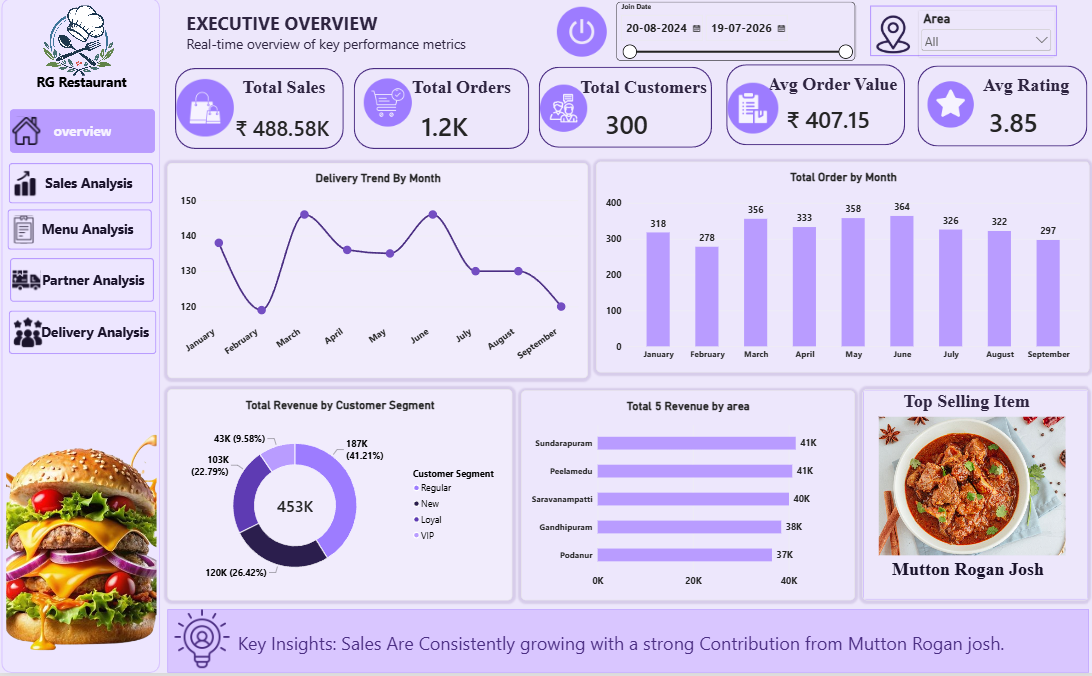

This screenshot's page, from the dashboard's own definition file:
{"tool":"powerbi","page":{"name":"Executive overview","canvas":[1951,1200],"ordinal":1},"visuals":[{"type":"shape","box":[2.5,0,282.5,1200],"z":0},{"type":"shape","box":[310,124,300,144],"z":1000},{"type":"textbox","box":[401.9,140.3,205.5,40],"z":2000},{"type":"image","box":[312.5,142.5,102.5,105],"z":3000},{"type":"cardVisual","fields":{"Data":["Sum(cleaned_orders.total_amount_inr)"]},"box":[402.5,197.5,215,65],"z":4000},{"type":"lineChart","title":"Delivery Trend By Month","fields":{"Y":["formulas.total orders"],"Category":["cleaned_orders.order_date.Variation.Date Hierarchy.Month"]},"box":[297.5,292.5,747.5,382.5],"z":5000},{"type":"clusteredColumnChart","title":"Total Order by Month","fields":{"Y":["Sum(cleaned_orders.quantity)"],"Category":["cleaned_orders.order_date.Variation.Date Hierarchy.Month"]},"box":[1060,292,878,374],"z":6000},{"type":"donutChart","title":"Total Revenue by Customer Segment","fields":{"Y":["formulas.Total revenue"],"Category":["cleaned_customers.customer_segment"]},"box":[297.5,695,612.5,375],"z":7000},{"type":"textbox","box":[331,21.8,651,125.5],"z":8000},{"type":"shape","box":[22.5,85,245,130],"z":9000},{"type":"image","box":[40,12.5,200,125],"z":10000},{"type":"barChart","title":"Total 5 Revenue by area","fields":{"Category":["cleaned_customers.area"],"Y":["formulas.Total revenue"]},"box":[927.5,697.5,592.5,372.5],"z":11000},{"type":"shape","box":[628.8,124,312,144],"z":12000},{"type":"textbox","box":[718,140.6,205.5,40],"z":13000},{"type":"image","box":[646.1,142.2,85.4,87.5],"z":14000},{"type":"cardVisual","fields":{"Data":["formulas.total orders"]},"box":[732.5,192.5,195,65],"z":15000},{"type":"shape","box":[958,122,308,144],"z":16000},{"type":"textbox","box":[1021.2,139.6,243.8,39.6],"z":17000},{"type":"image","box":[960,136,84,120],"z":18000},{"type":"cardVisual","fields":{"Data":["Count(cleaned_customers.customer_name)"]},"box":[1060,190,194.6,65.5],"z":19000},{"type":"shape","box":[1292,118,318,144],"z":20000},{"type":"textbox","box":[1352,134,258.3,41.7],"z":21000},{"type":"image","box":[1294,138,90,116],"z":22000},{"type":"cardVisual","fields":{"Data":["Avg(cleaned_orders.total_amount_inr)"]},"box":[1382.5,182.5,194.6,65.5],"z":23000},{"type":"shape","box":[1630,120,302,144],"z":24000},{"type":"textbox","box":[1712,136,226,38],"z":25000},{"type":"image","box":[1649.5,139.1,82.3,98.8],"z":26000},{"type":"cardVisual","fields":{"Data":["Avg(item_performance.avg_rating)"]},"box":[1742.5,187.5,194.6,65.5],"z":27000},{"type":"actionButton","title":"overview on","box":[17.5,197.5,257.5,77.5],"z":28000},{"type":"actionButton","title":"sales off","box":[14.8,292.6,256.6,72.1],"z":31000},{"type":"actionButton","title":"menu off","box":[14.4,376.6,256.6,72.1],"z":33000},{"type":"actionButton","title":"partner off","box":[18,462,256,78],"z":35000},{"type":"actionButton","title":"delivery Analysis off","box":[15,555,262.5,77.5],"z":37000},{"type":"shape","box":[1532.5,695,402.5,375],"z":38000},{"type":"image","box":[1562,744,332,246],"z":39000},{"type":"textbox","box":[1570,996,300,48],"z":40000},{"type":"textbox","box":[1594,698,250,40],"z":41000},{"type":"shape","box":[297.5,1087.5,1640,112.5],"z":42000},{"type":"textbox","box":[337.5,1125,1532.5,75],"z":43000},{"type":"image","box":[305,1087.5,110,105],"z":44000},{"type":"image","box":[10,737.5,267.5,462.5],"z":45000},{"type":"shape","box":[1547.5,12.5,332.5,90],"z":46000},{"type":"slicer","fields":{"Values":["cleaned_customers.area"]},"box":[1632.5,22.5,240,82.5],"z":47000},{"type":"image","box":[1547.5,30,82.5,67.5],"z":48000},{"type":"slicer","title":"Join Date","fields":{"Values":["cleaned_customers.join_date"]},"box":[1095,7.5,425,105],"z":49000},{"type":"image","box":[975.6,15.6,117.8,88.9],"z":50000}]}

Visuals, with their boxes in screenshot pixels (x1, y1, x2, y2), scaled from the page's 1951x1200 canvas onto the 1092x676 screenshot:
shape: x1=1, y1=0, x2=160, y2=675
shape: x1=174, y1=70, x2=341, y2=151
textbox: x1=225, y1=79, x2=340, y2=102
image: x1=175, y1=80, x2=232, y2=139
cardVisual - Sum(cleaned_orders.total_amount_inr): x1=225, y1=111, x2=346, y2=148
"Delivery Trend By Month" lineChart: x1=167, y1=165, x2=585, y2=380
"Total Order by Month" clusteredColumnChart: x1=593, y1=164, x2=1085, y2=375
"Total Revenue by Customer Segment" donutChart: x1=167, y1=392, x2=509, y2=603
textbox: x1=185, y1=12, x2=550, y2=83
shape: x1=13, y1=48, x2=150, y2=121
image: x1=22, y1=7, x2=134, y2=77
"Total 5 Revenue by area" barChart: x1=519, y1=393, x2=851, y2=603
shape: x1=352, y1=70, x2=527, y2=151
textbox: x1=402, y1=79, x2=517, y2=102
image: x1=362, y1=80, x2=409, y2=129
cardVisual - formulas.total orders: x1=410, y1=108, x2=519, y2=145
shape: x1=536, y1=69, x2=709, y2=150
textbox: x1=572, y1=79, x2=708, y2=101
image: x1=537, y1=77, x2=584, y2=144
cardVisual - Count(cleaned_customers.customer_name): x1=593, y1=107, x2=702, y2=144
shape: x1=723, y1=66, x2=901, y2=148
textbox: x1=757, y1=75, x2=901, y2=99
image: x1=724, y1=78, x2=775, y2=143
cardVisual - Avg(cleaned_orders.total_amount_inr): x1=774, y1=103, x2=883, y2=140
shape: x1=912, y1=68, x2=1081, y2=149
textbox: x1=958, y1=77, x2=1085, y2=98
image: x1=923, y1=78, x2=969, y2=134
cardVisual - Avg(item_performance.avg_rating): x1=975, y1=106, x2=1084, y2=143
"overview on" actionButton: x1=10, y1=111, x2=154, y2=155
"sales off" actionButton: x1=8, y1=165, x2=152, y2=205
"menu off" actionButton: x1=8, y1=212, x2=152, y2=253
"partner off" actionButton: x1=10, y1=260, x2=153, y2=304
"delivery Analysis off" actionButton: x1=8, y1=313, x2=155, y2=356
shape: x1=858, y1=392, x2=1083, y2=603
image: x1=874, y1=419, x2=1060, y2=558
textbox: x1=879, y1=561, x2=1047, y2=588
textbox: x1=892, y1=393, x2=1032, y2=416
shape: x1=167, y1=613, x2=1084, y2=675
textbox: x1=189, y1=634, x2=1047, y2=675
image: x1=171, y1=613, x2=232, y2=672
image: x1=6, y1=415, x2=155, y2=675
shape: x1=866, y1=7, x2=1052, y2=58
slicer - cleaned_customers.area: x1=914, y1=13, x2=1048, y2=59
image: x1=866, y1=17, x2=912, y2=55
"Join Date" slicer: x1=613, y1=4, x2=851, y2=63
image: x1=546, y1=9, x2=612, y2=59
